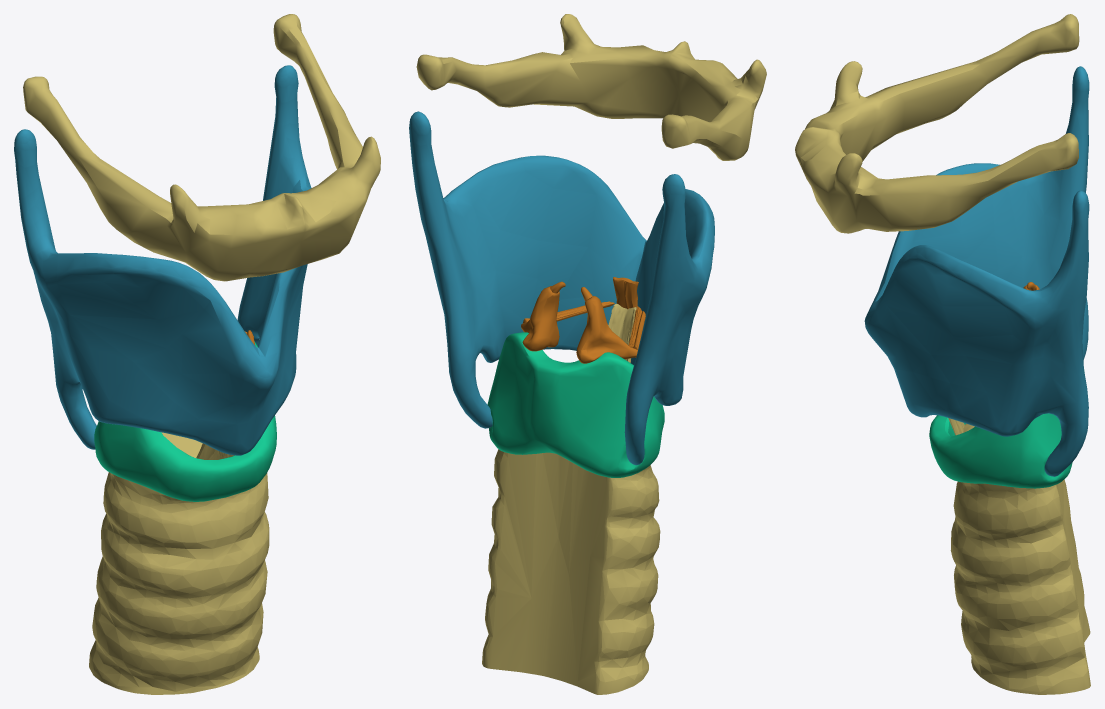
The model's file is fbx_frame_0001.obj.
3 views of the same model, side by side, from view 1: azimuth 30°, elevation 25°; view 2: azimuth 150°, elevation 25°; view 3: azimuth 270°, elevation 25° (orthographic). The views are drawn at different scales.
Parts seen in each view (by area): view 1: maya2sketchfab.010, maya2sketchfab.001, maya2sketchfab.011, maya2sketchfab.005; view 2: maya2sketchfab.010, maya2sketchfab.001, maya2sketchfab.011, maya2sketchfab.005, maya2sketchfab.004, maya2sketchfab.006, maya2sketchfab.007; view 3: maya2sketchfab.010, maya2sketchfab.001, maya2sketchfab.011, maya2sketchfab.005.
Part boxes in pixels (x1,y1,x2,y2): maya2sketchfab.010: [14, 65, 311, 455]; maya2sketchfab.001: [89, 432, 269, 694]; maya2sketchfab.011: [23, 14, 380, 281]; maya2sketchfab.005: [94, 341, 276, 501]; maya2sketchfab.010: [409, 111, 714, 465]; maya2sketchfab.001: [482, 303, 660, 694]; maya2sketchfab.011: [416, 14, 766, 160]; maya2sketchfab.005: [487, 332, 664, 477]; maya2sketchfab.004: [576, 287, 637, 363]; maya2sketchfab.006: [521, 281, 565, 351]; maya2sketchfab.007: [613, 277, 638, 309]; maya2sketchfab.010: [864, 66, 1089, 476]; maya2sketchfab.001: [948, 418, 1090, 694]; maya2sketchfab.011: [795, 14, 1079, 233]; maya2sketchfab.005: [929, 369, 1084, 488].
Size of the model in its own units: 38.66 by 78.91 by 36.29.
